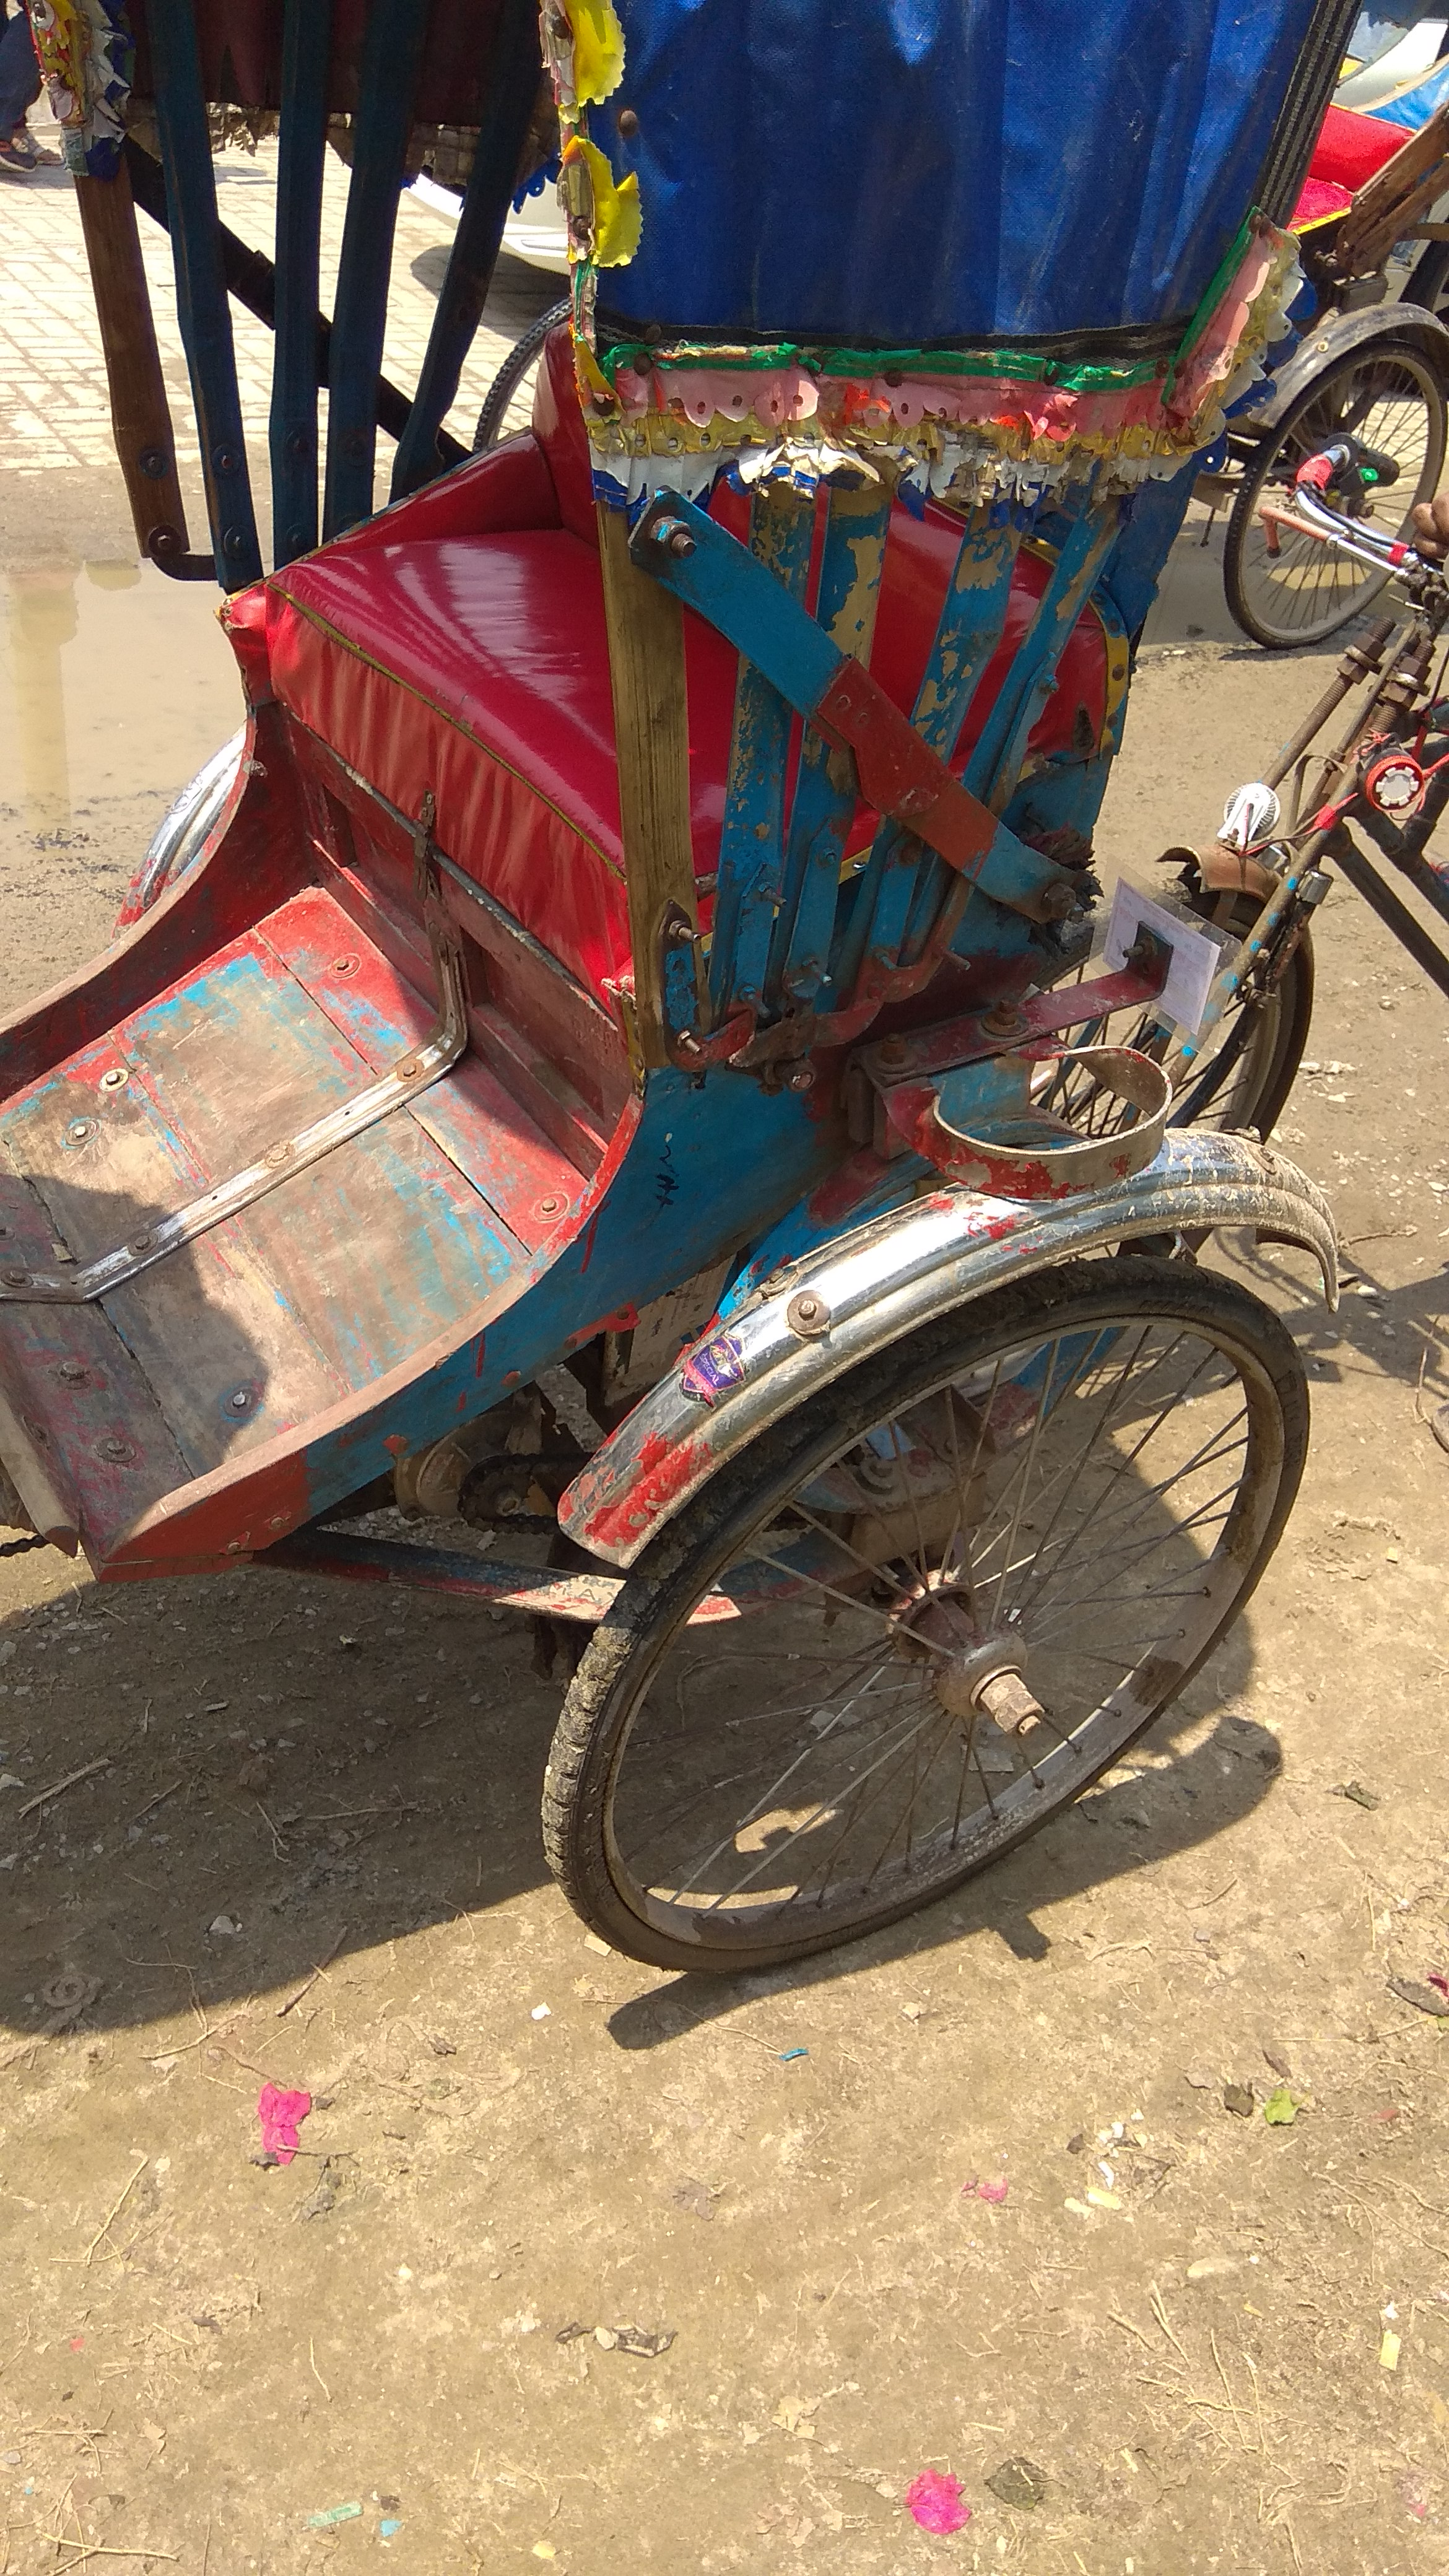Rickshaw: (9, 7, 1327, 1997), (9, 2, 1315, 1997)
